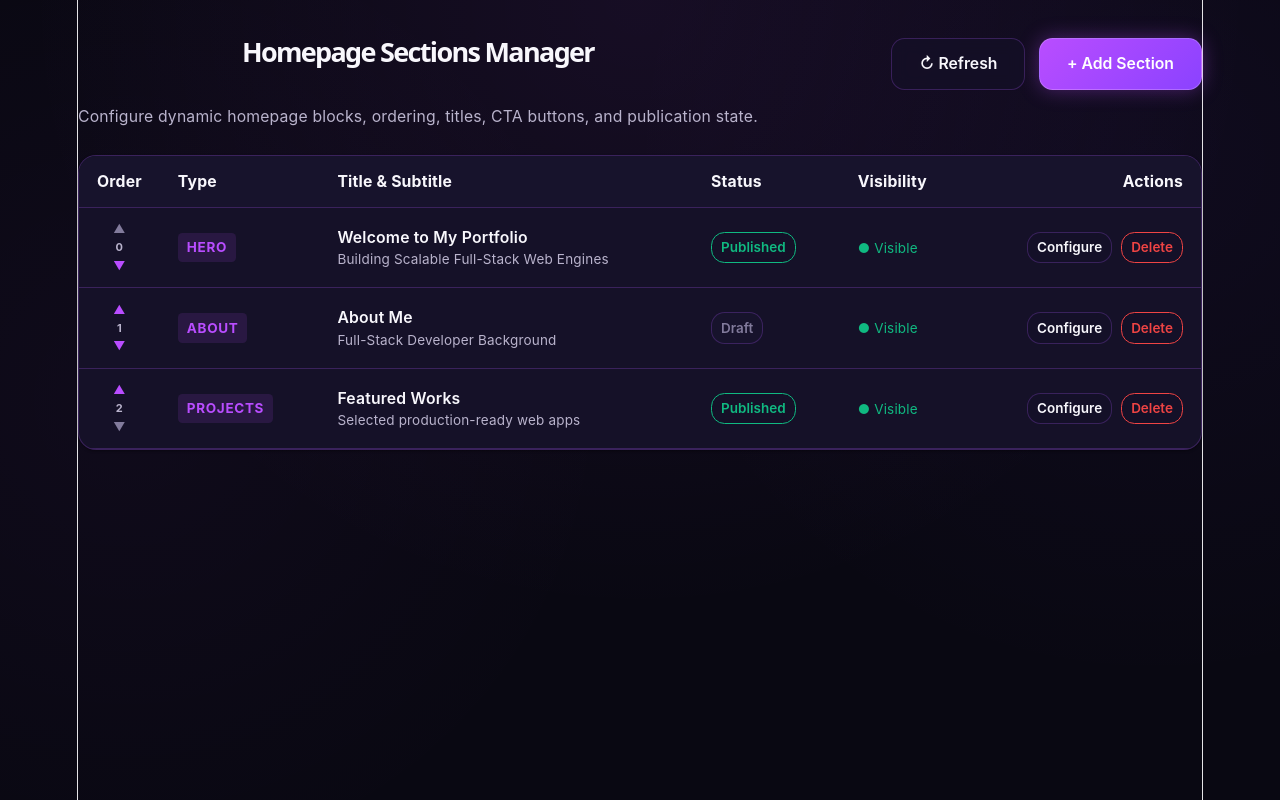
it: HomepageSectionManager Component (src/pages/admin/HomepageSectionManager.jsx) › 5. Reorders homepage sections with bulk update
The image size is (1280, 800).
Expected: the text "Welcome to My Portfolio" is shown, [337,228,528,247]
// Move first item down
Click the button titled "Move Down" below "hero" at point(119, 266), box [111,258,127,274]
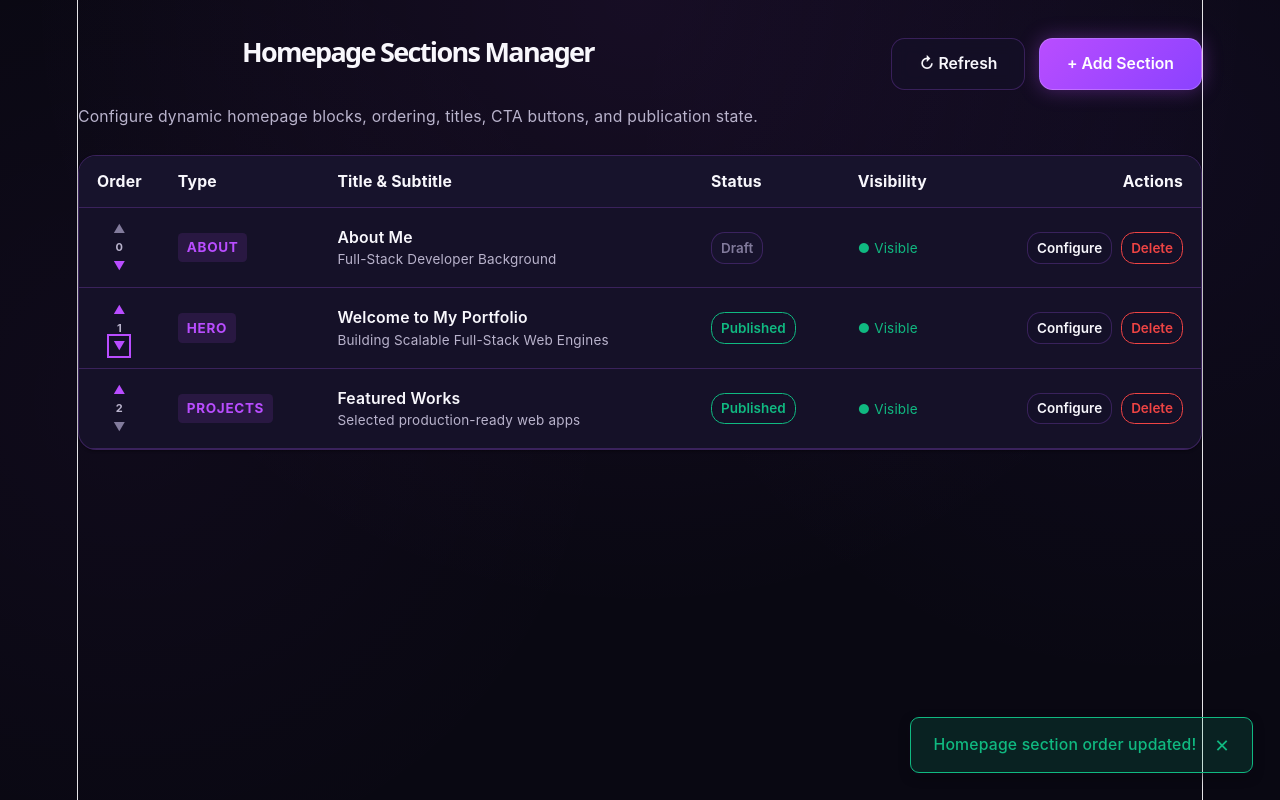
Expected: the text "Homepage section order updated!" is shown, [934,733,1196,757]
